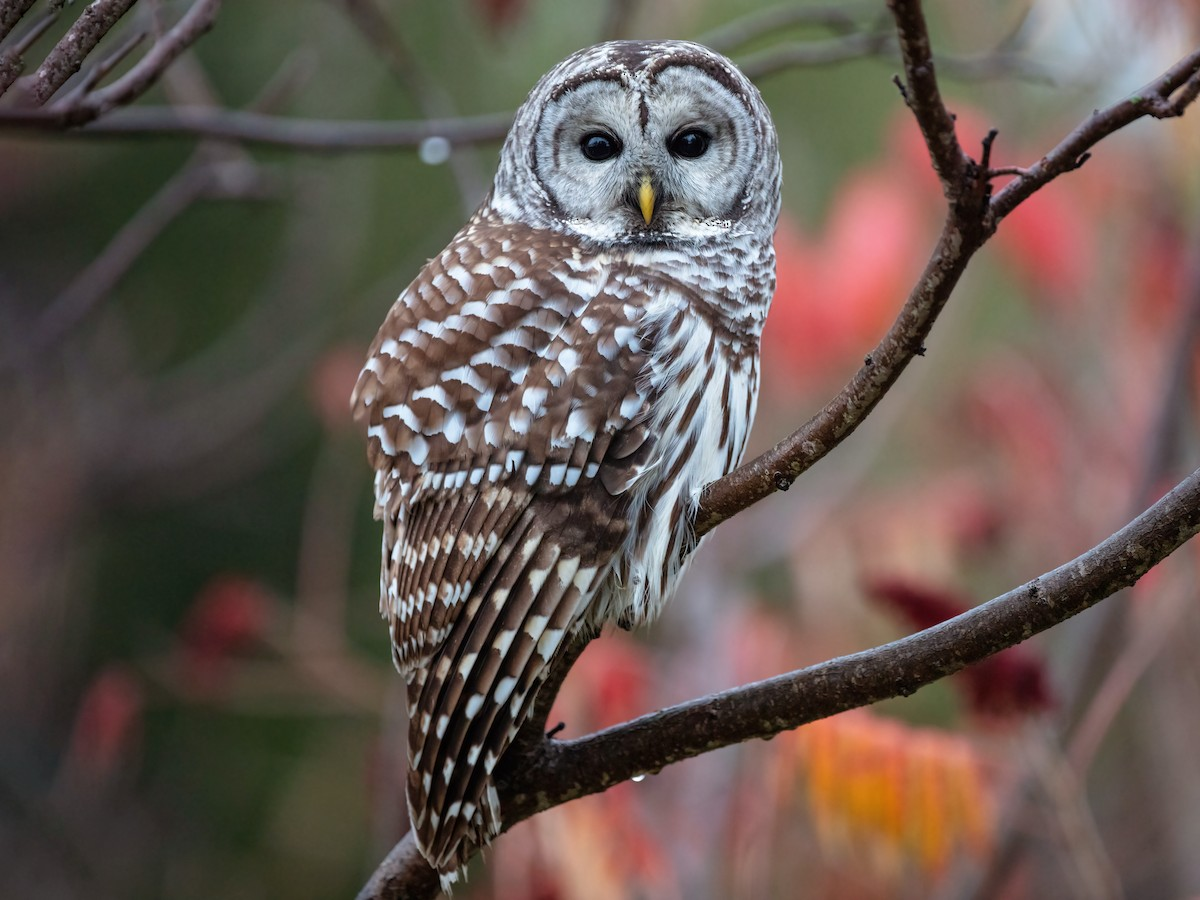owl: (349, 33, 788, 865)
